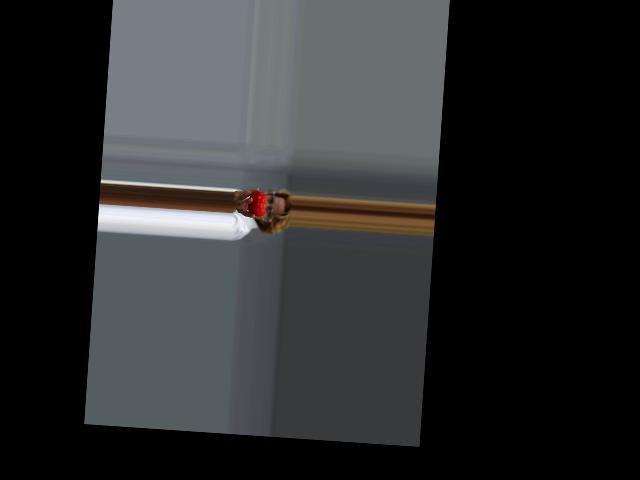tomato: (247, 191, 265, 217)
